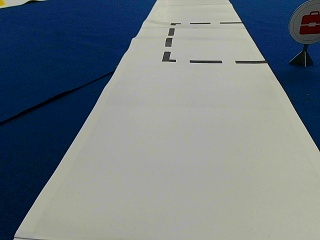company: (288, 1, 320, 43)
